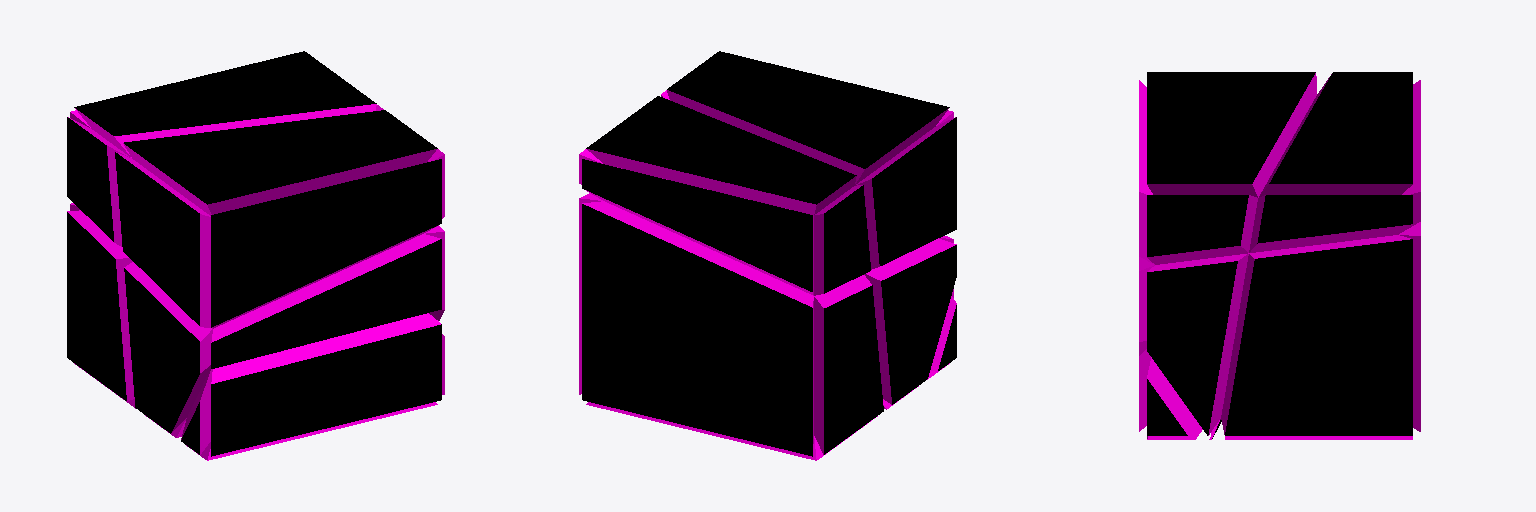
The model's file is PONI.obj.
3 renders of one model, left to right at view 1: azimuth 30°, elevation 25°; view 2: azimuth 150°, elevation 25°; view 3: azimuth 270°, elevation 25°, orthographic.
Parts seen in each view (by area): view 1: Cube; view 2: Cube; view 3: Cube.
Boxes of the visible parts, <box> form: Cube: <box>67,51,444,460</box>; Cube: <box>579,51,956,460</box>; Cube: <box>1139,72,1420,439</box>.
Bounding box in the file's own units: 2.33 × 2.33 × 2.33.